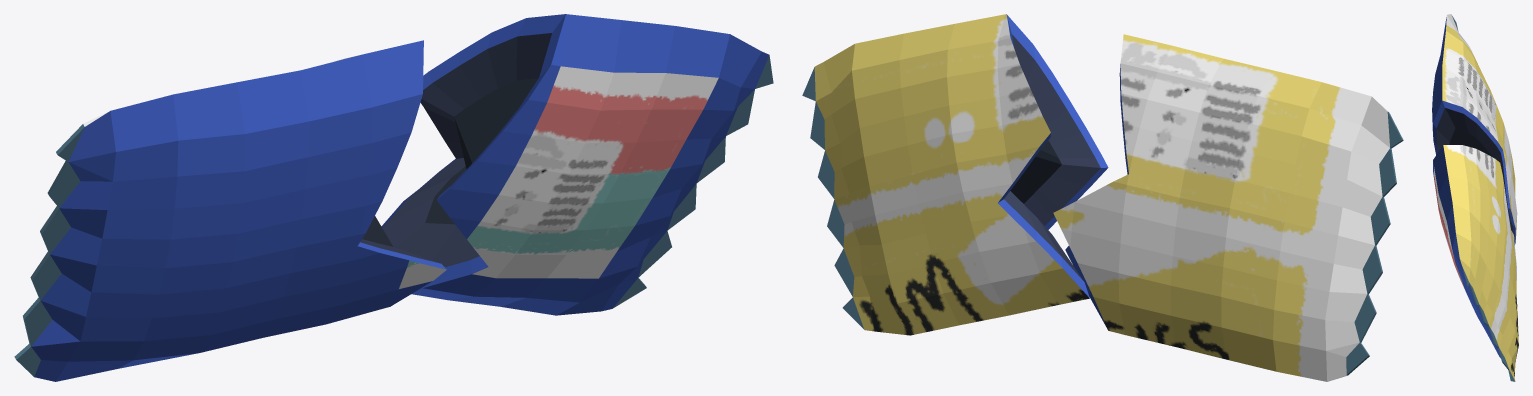
File: JunkWrapper.PillowNasties.fbx
3 views of the same model, side by side, from view 1: azimuth 30°, elevation 25°; view 2: azimuth 150°, elevation 25°; view 3: azimuth 270°, elevation 25° (orthographic). The views are drawn at different scales.
Parts seen in each view (by area): view 1: JunkWrapper.PillowNasties; view 2: JunkWrapper.PillowNasties; view 3: JunkWrapper.PillowNasties.
Boxes of the visible parts, x1,y1,x2,y2 form: JunkWrapper.PillowNasties: (14, 14, 773, 381); JunkWrapper.PillowNasties: (802, 14, 1403, 381); JunkWrapper.PillowNasties: (1432, 14, 1518, 381).
Bounding box in the file's own units: 93.16 × 46.74 × 17.18.
